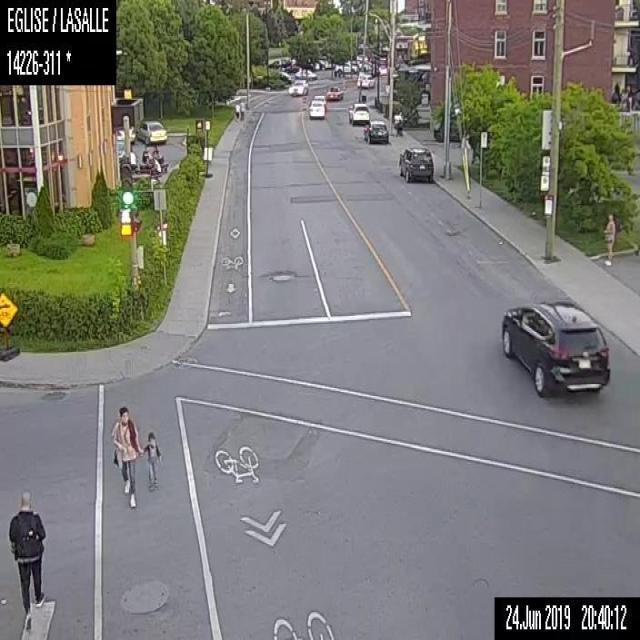pedestrian: (8, 491, 46, 624), (110, 405, 141, 507), (140, 428, 162, 491), (602, 213, 614, 264), (392, 110, 402, 134), (142, 144, 150, 168), (150, 156, 160, 174), (150, 144, 160, 160), (238, 98, 245, 119), (234, 97, 239, 120)
vehicle: (500, 297, 608, 395), (397, 147, 433, 181), (136, 119, 166, 142), (113, 140, 135, 165), (364, 118, 387, 141), (347, 102, 369, 124), (112, 122, 135, 143), (333, 59, 358, 74), (288, 77, 307, 95), (355, 72, 375, 87), (325, 84, 343, 100), (308, 100, 323, 118), (311, 95, 326, 112), (296, 67, 314, 80)
